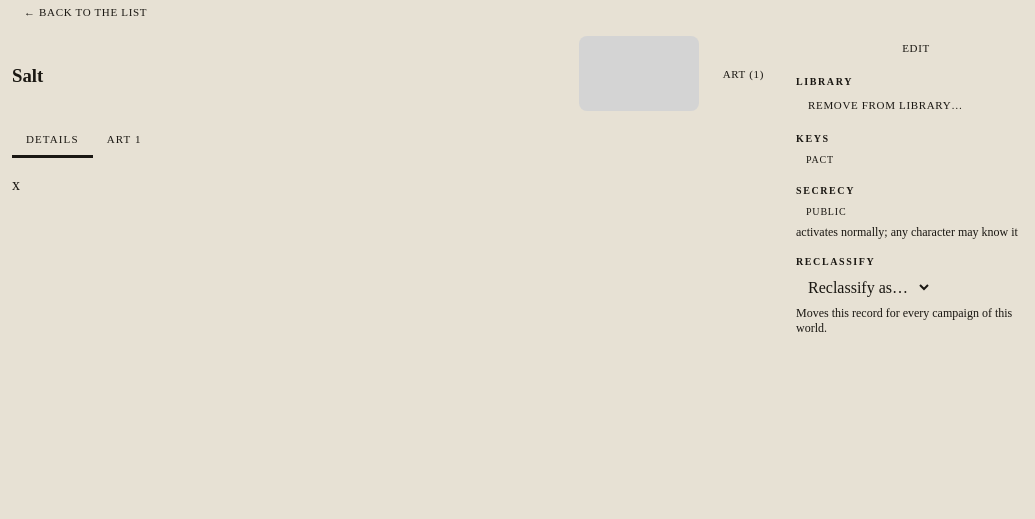
Test: an item uses the common Art shelf while retaining its rail preview
The image size is (1035, 519).
Click the tab "Art 1": (124, 140) x1=93 y1=123 x2=156 y2=158
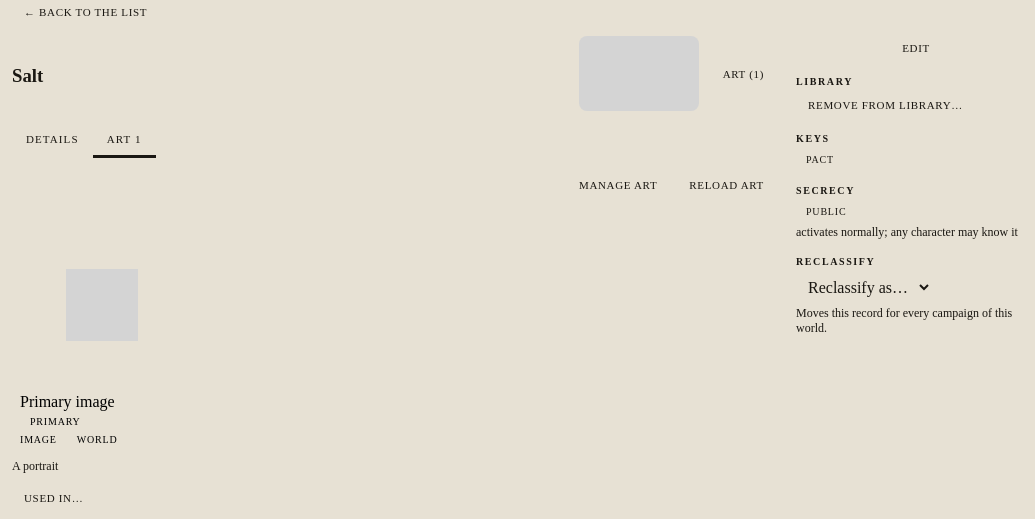
Expected: the button with aria-label "View Primary image" is shown, x1=12 y1=217 x2=191 y2=455
